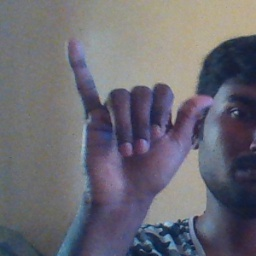J: (58, 36, 214, 203)
